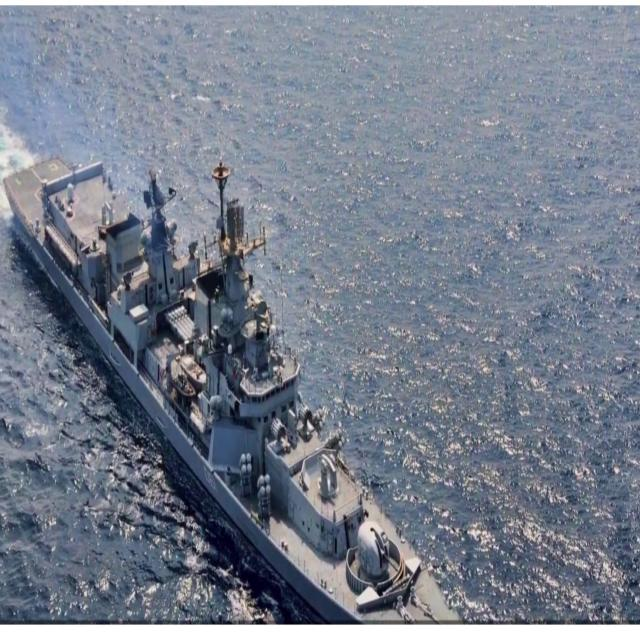OCR: (197, 457, 222, 499)
